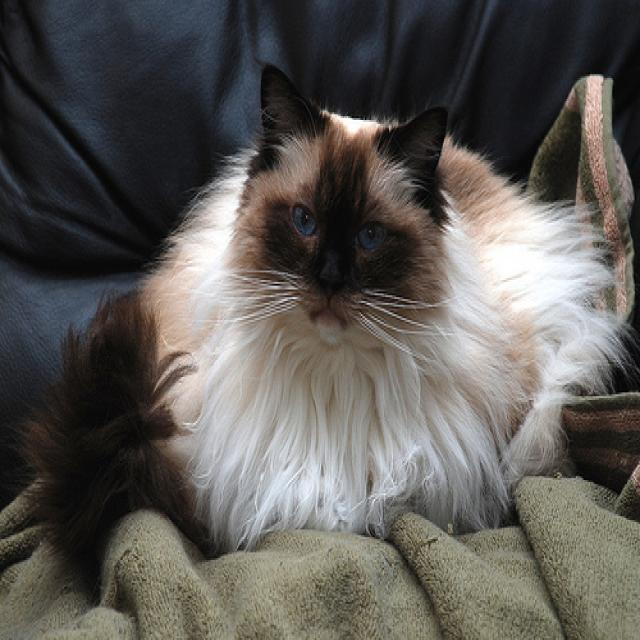Birman: (150, 55, 524, 554)
